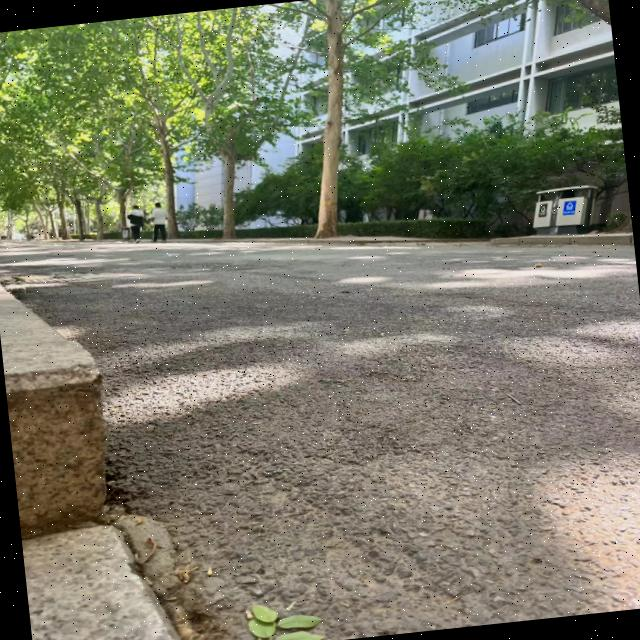curb: (1, 265, 125, 533)
